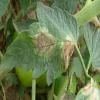Tomato leaf late blight: (0, 2, 80, 89)
